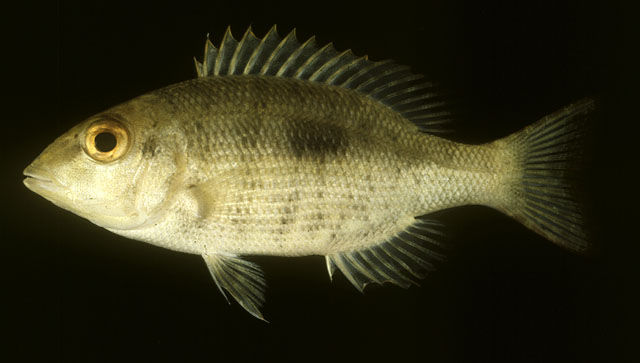fish: (22, 25, 594, 323)
